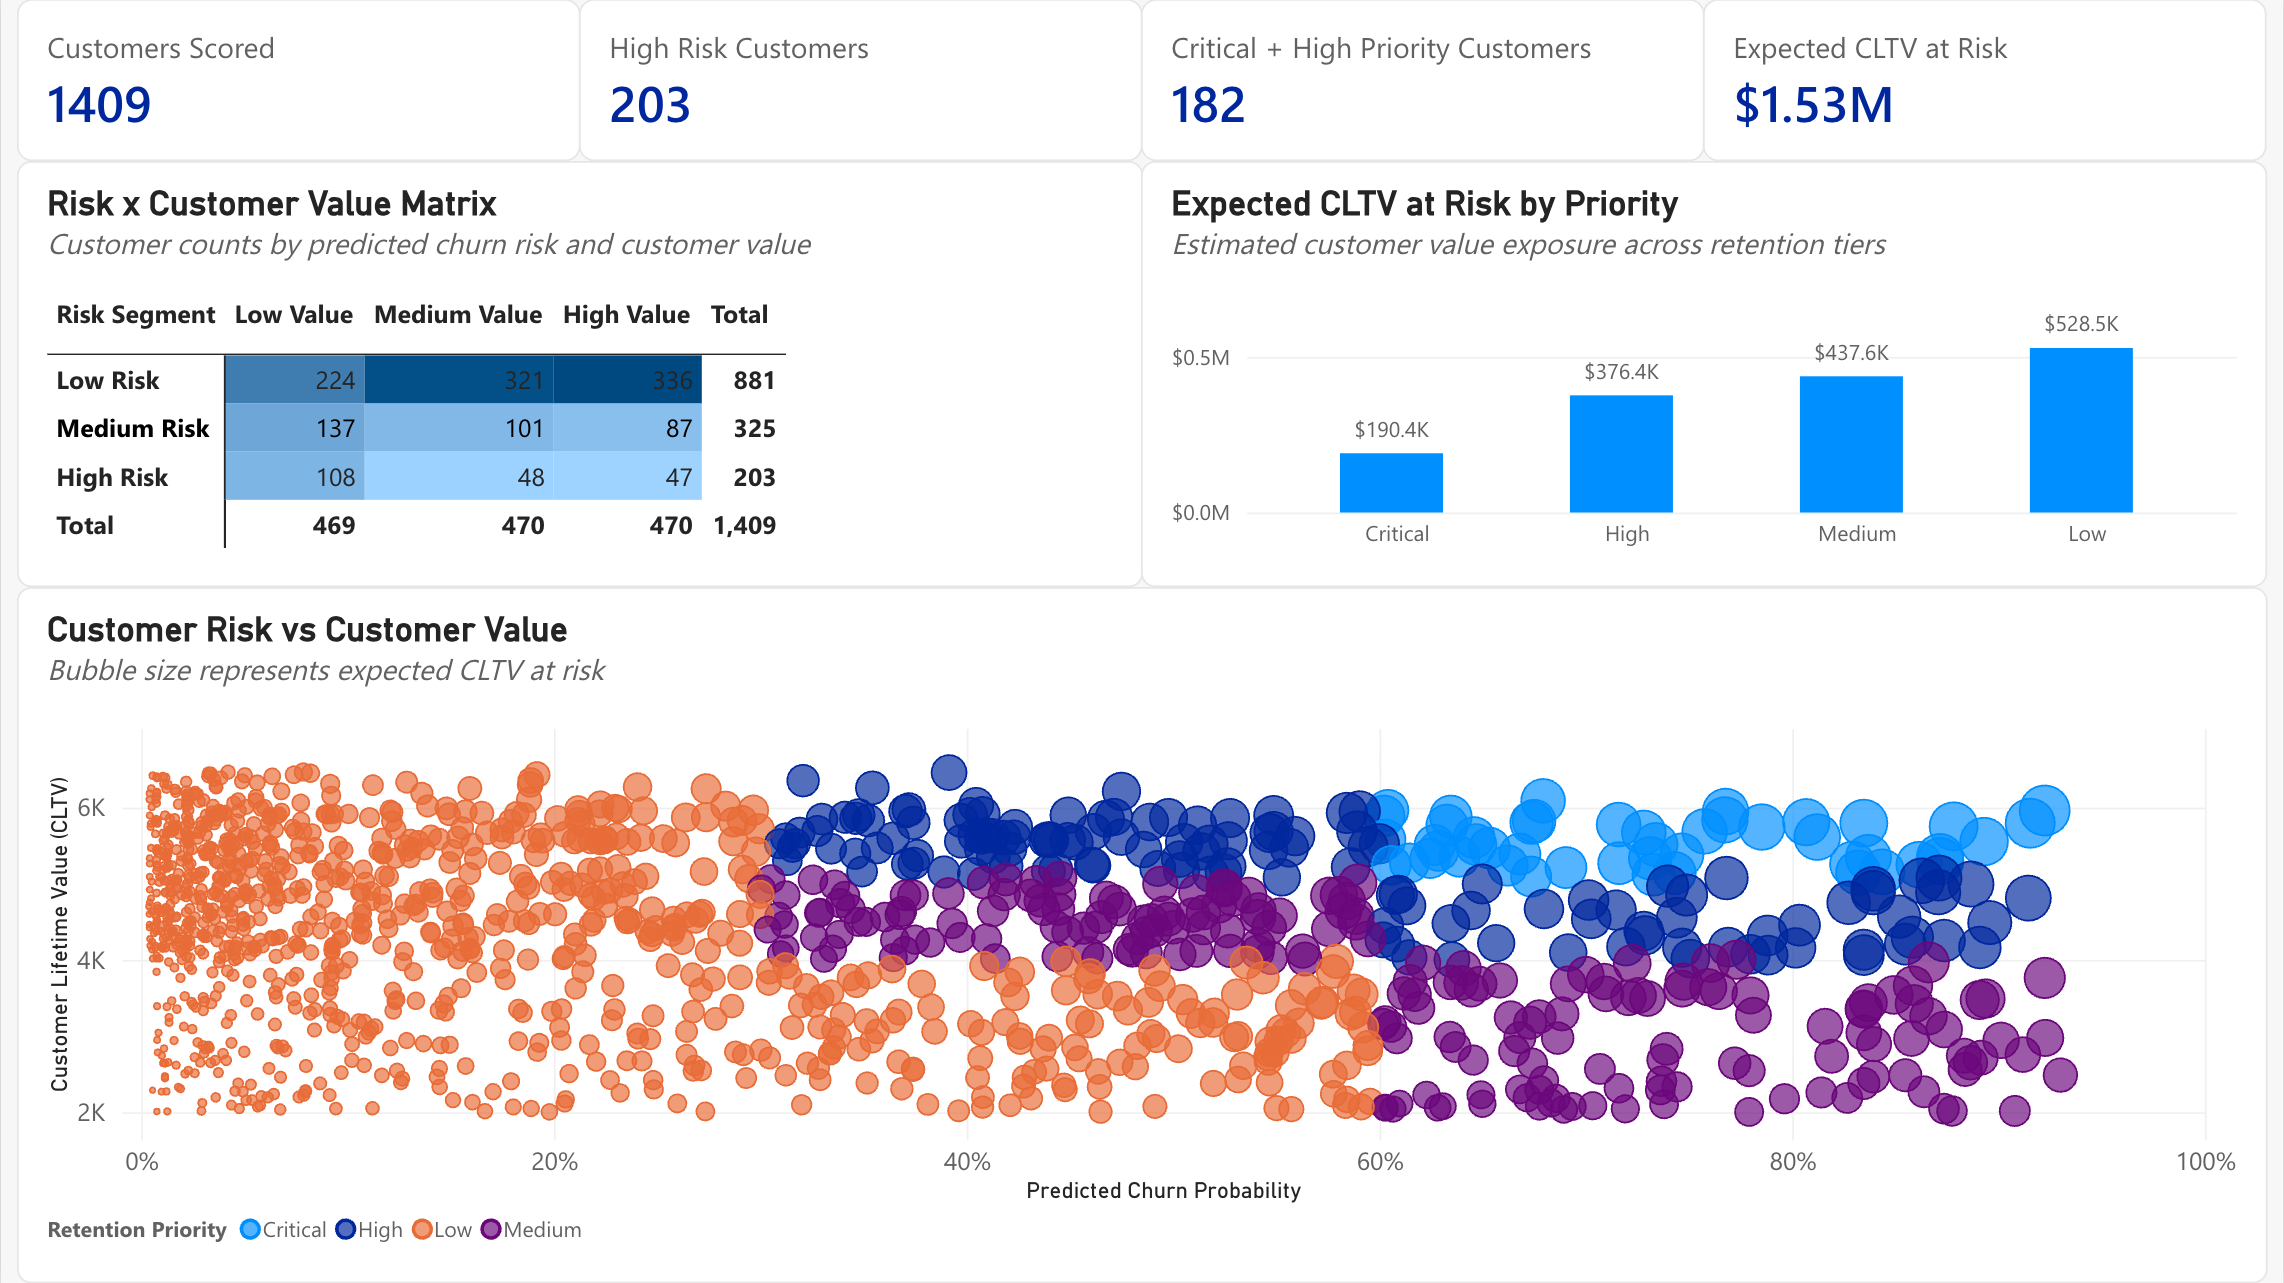

The page's visual inventory and layout, read from the dashboard file:
{"tool":"powerbi","page":{"name":"Retention Priority","canvas":[1280,720],"ordinal":1},"visuals":[{"type":"group","id":"g1","title":"Group 1","box":[9,0,1262,91.1],"z":0},{"type":"cardVisual","fields":{"Data":["Retention.Customers Scored"]},"box":[9,0,316,91.1],"z":0,"group":"g1"},{"type":"cardVisual","fields":{"Data":["Retention.High Risk Customers"]},"box":[323.9,0,316,91.1],"z":1000,"group":"g1"},{"type":"pivotTable","title":"Risk x Customer Value Matrix","fields":{"Columns":["ValueSegmentSort.Value Segment"],"Rows":["RiskSegmentSort.Risk Segment"],"Values":["Retention.Customers Scored"]},"box":[9,91.1,631.5,239.2],"z":1000},{"type":"cardVisual","fields":{"Data":["Retention.Critical + High Priority Customers"]},"box":[639.4,0,316,91.1],"z":2000,"group":"g1"},{"type":"clusteredColumnChart","title":"Expected CLTV at Risk by Priority","fields":{"Category":["PrioritySort.Retention Priority"],"Y":["Retention.Sum Expected CLTV at Risk"]},"box":[639.5,91.1,631.5,239.2],"z":2000},{"type":"scatterChart","title":"Customer Risk vs Customer Value","fields":{"Category":["Retention.CustomerID"],"Series":["Retention.Retention Priority"],"Size":["Retention.Sum Expected CLTV at Risk"],"X":["Avg(Retention.churn_probability)"],"Y":["Avg(Retention.CLTV)"]},"box":[9.1,329.3,1261.9,390.5],"z":2001},{"type":"cardVisual","fields":{"Data":["Retention.Sum Expected CLTV at Risk"]},"box":[955,0,316,91.1],"z":3000,"group":"g1"}]}

Visuals, with their boxes in screenshot pixels (x1, y1, x2, y2), scaled from the page's 1280x720 canvas onto the 2284x1283 screenshot:
"Group 1" group: rect(16, 0, 2268, 162)
cardVisual - Retention.Customers Scored: rect(16, 0, 580, 162)
cardVisual - Retention.High Risk Customers: rect(578, 0, 1142, 162)
"Risk x Customer Value Matrix" pivotTable: rect(16, 162, 1143, 589)
cardVisual - Retention.Critical + High Priority Customers: rect(1141, 0, 1705, 162)
"Expected CLTV at Risk by Priority" clusteredColumnChart: rect(1141, 162, 2268, 589)
"Customer Risk vs Customer Value" scatterChart: rect(16, 587, 2268, 1282)
cardVisual - Retention.Sum Expected CLTV at Risk: rect(1704, 0, 2268, 162)
